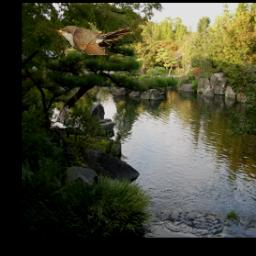Cuckoo: (56, 26, 130, 55)
Swallow: (50, 105, 68, 136)
